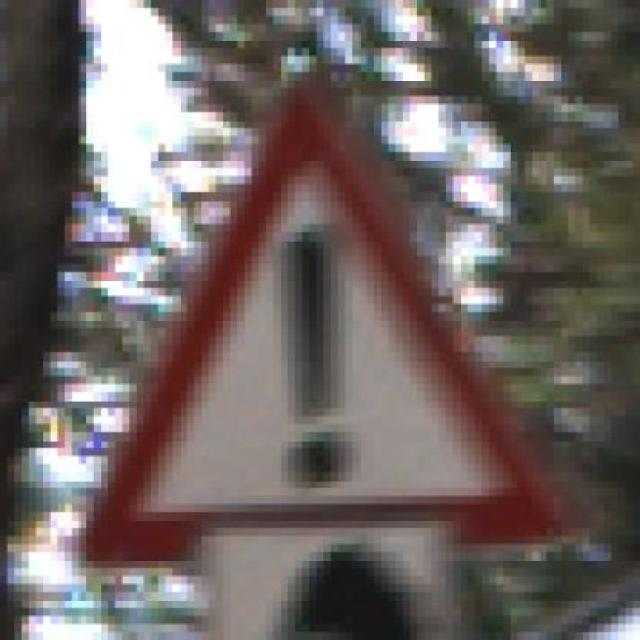Attention Please-: (64, 89, 576, 576)
